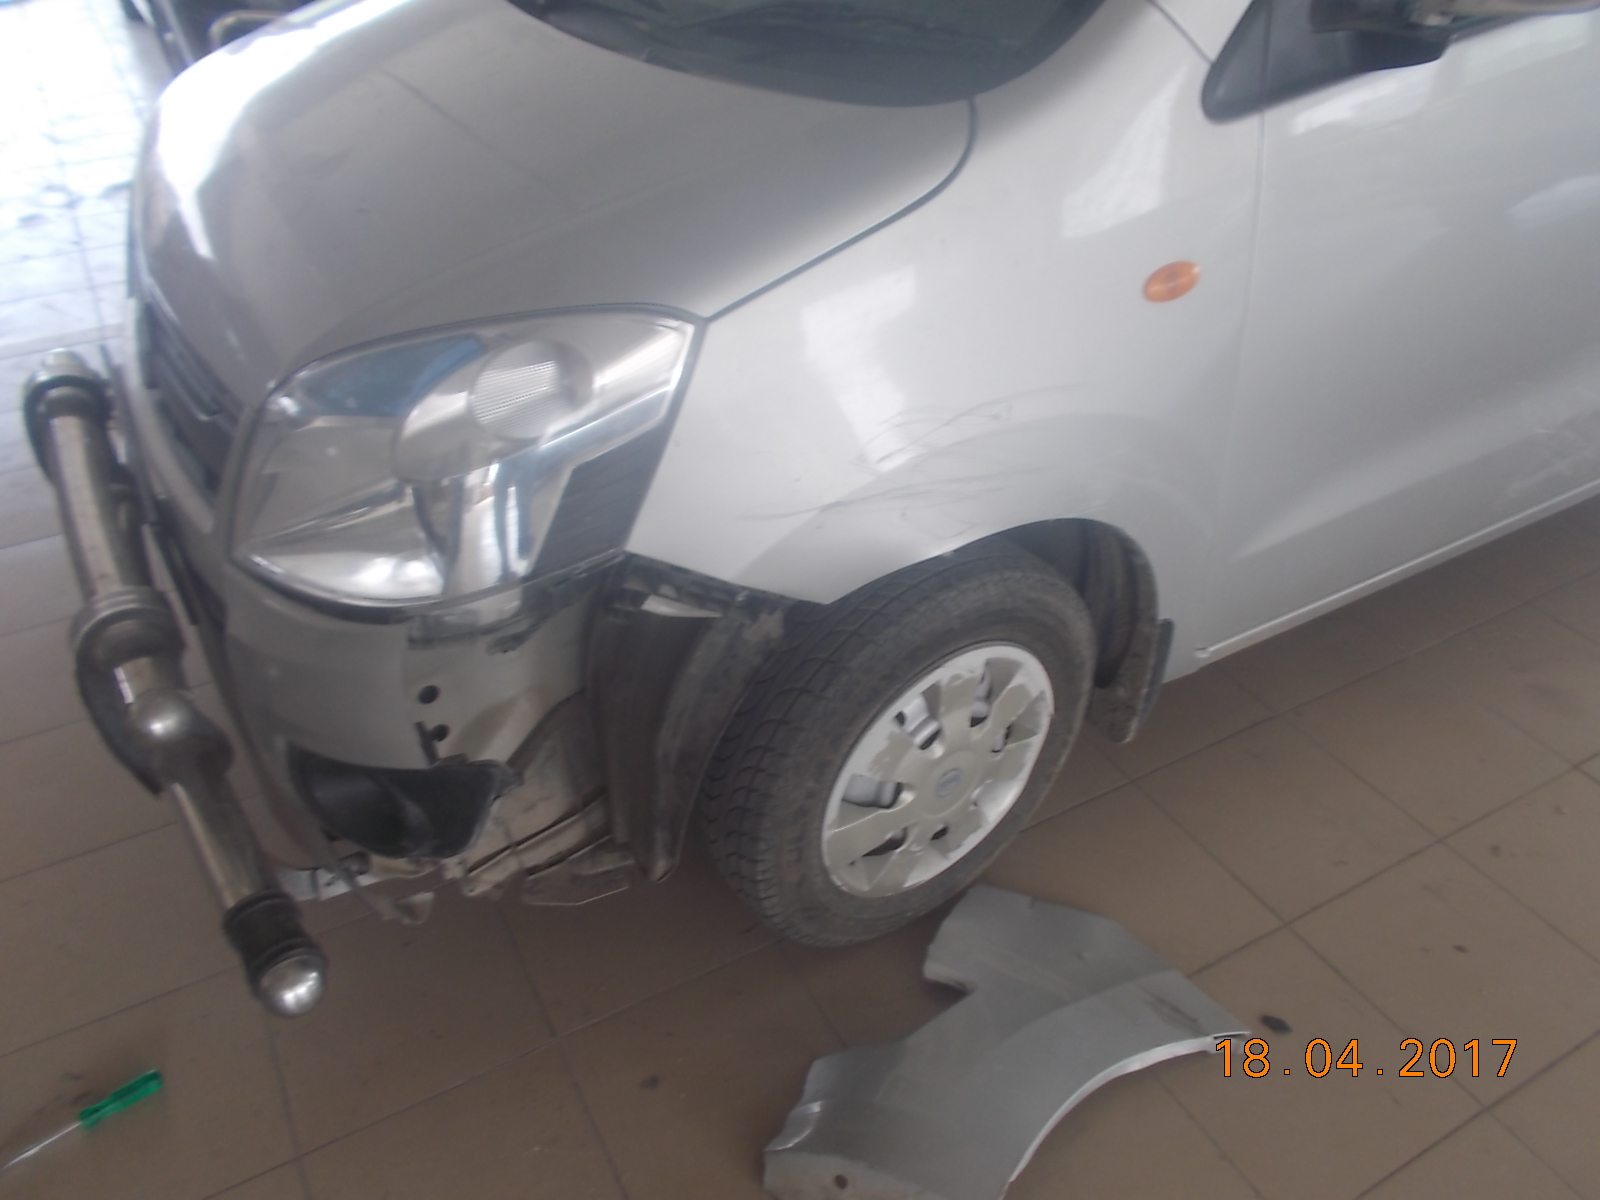Large_tear_or_damage: (236, 493, 813, 886)
